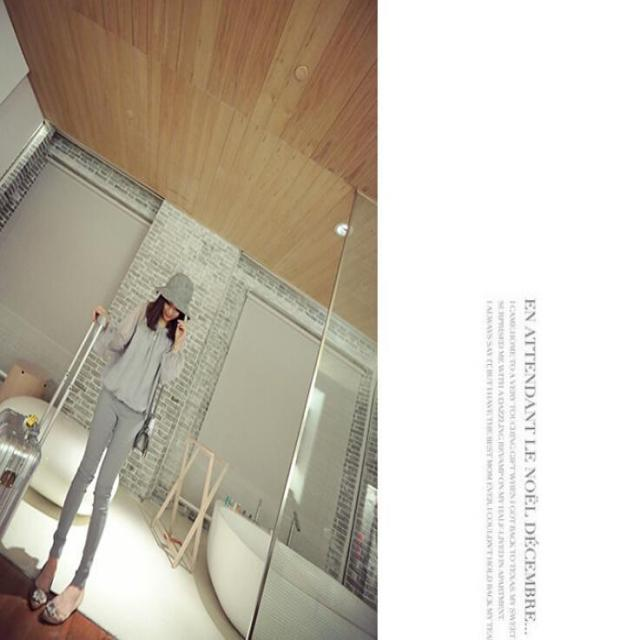trousers: (82, 392, 125, 617)
